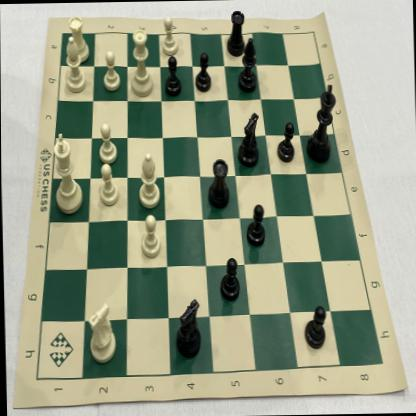black-bishop: (236, 34, 259, 94)
black-king: (302, 78, 339, 167)
black-knight: (173, 291, 204, 361), (234, 107, 263, 171)
black-pawn: (216, 252, 243, 306), (301, 298, 328, 350), (243, 196, 267, 250), (272, 116, 297, 165), (191, 50, 215, 95), (160, 52, 182, 98)
black-rook: (202, 149, 233, 216), (222, 4, 249, 59)
white-bishop: (133, 148, 163, 212), (62, 30, 90, 98)
white-king: (45, 130, 86, 216)
white-knight: (82, 298, 120, 368)
white-pawn: (135, 209, 164, 262), (94, 160, 121, 210), (99, 46, 124, 94), (156, 11, 181, 58), (96, 118, 117, 166)
white-queen: (127, 23, 157, 99)
white-rook: (64, 11, 92, 65)
